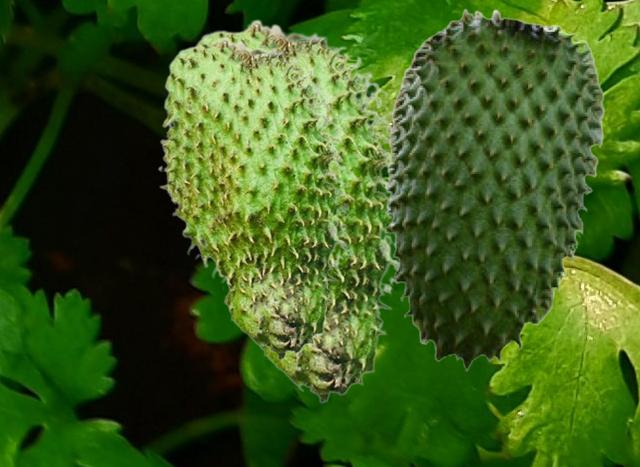guyabano: (384, 8, 604, 370), (193, 18, 398, 403), (157, 36, 351, 360)
